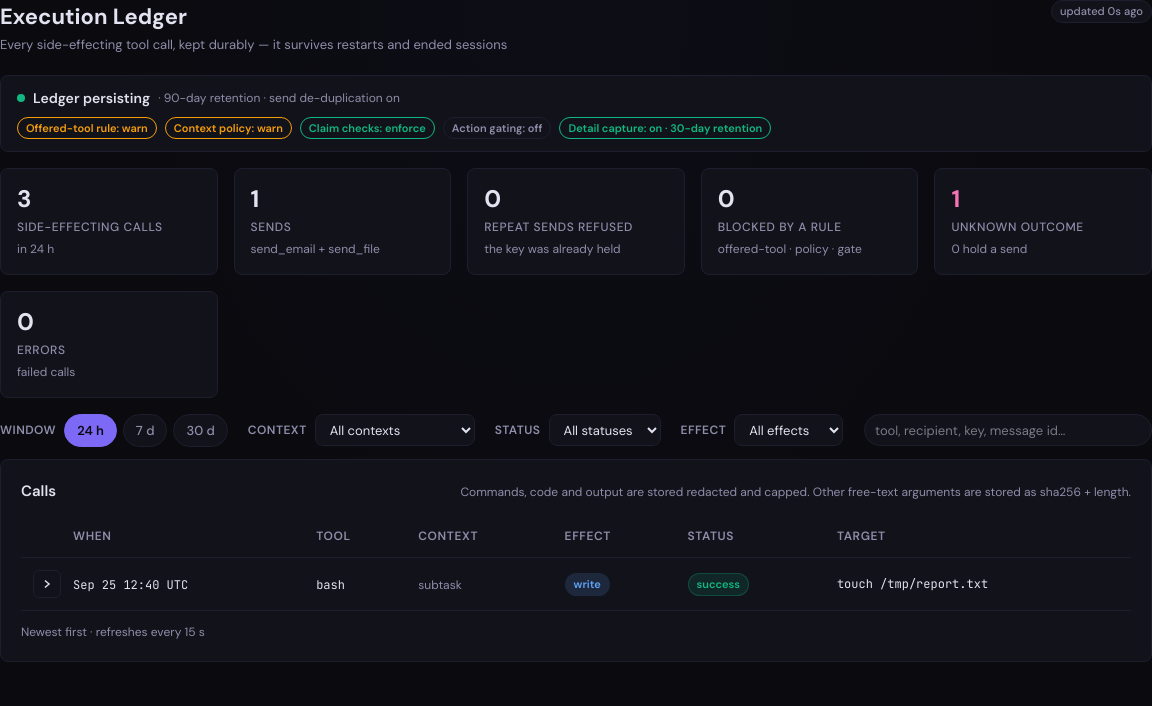
it: harness dashboard views › Ledger shows the stored command as the target and fetches command and output once when a row opens
Click the button named "Show details for bash": (47,584) x1=33 y1=570 x2=61 y2=598
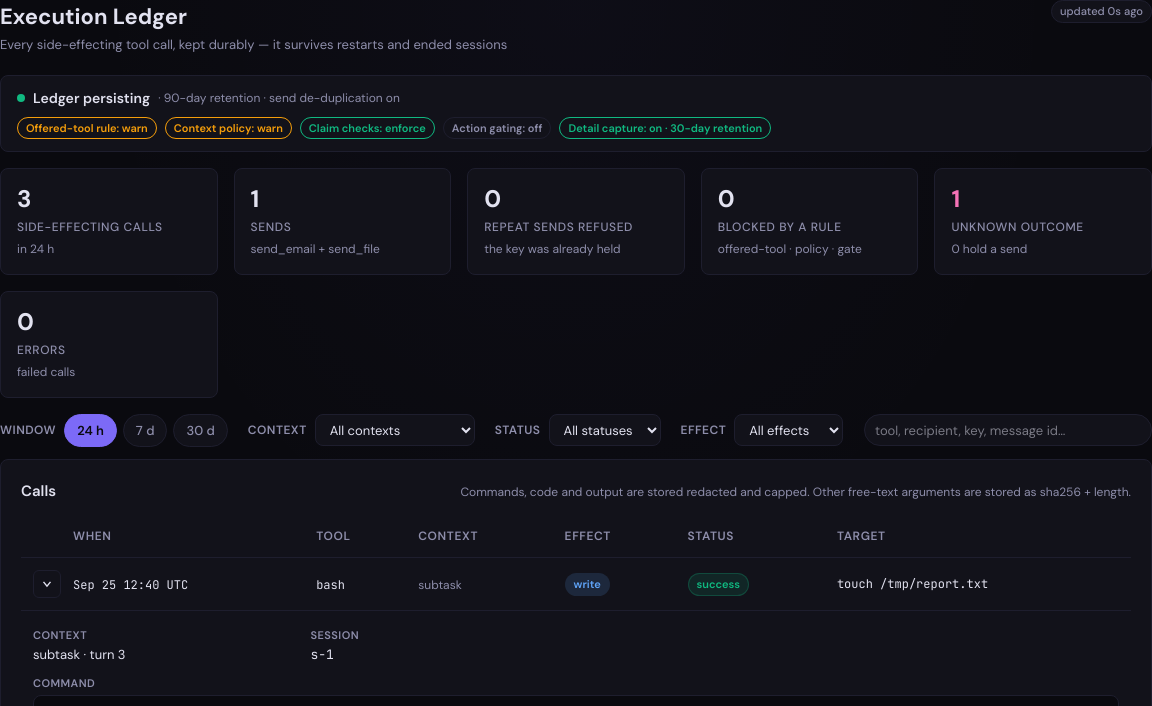
Expected: the text "Command" is shown, x1=460 y1=484 x2=1131 y2=500
Click the button named "Show details for bash": (47,584) x1=33 y1=570 x2=61 y2=598
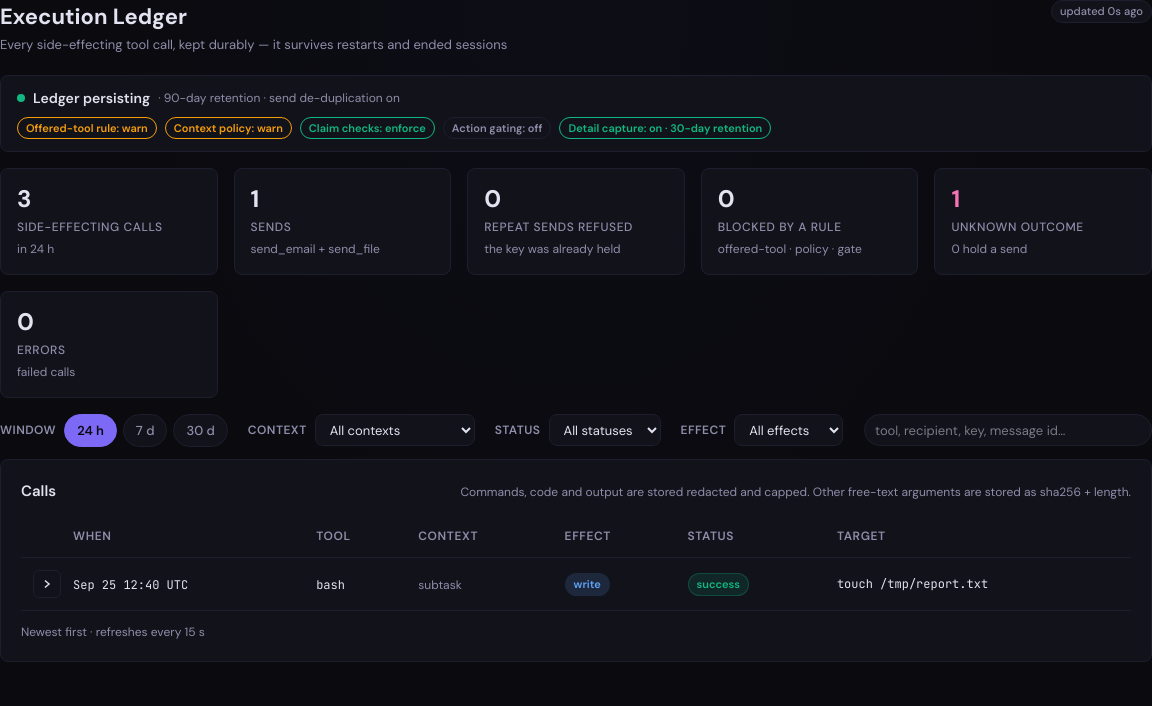
Click the button named "Show details for bash": (47,584) x1=33 y1=570 x2=61 y2=598
(page scrolled)
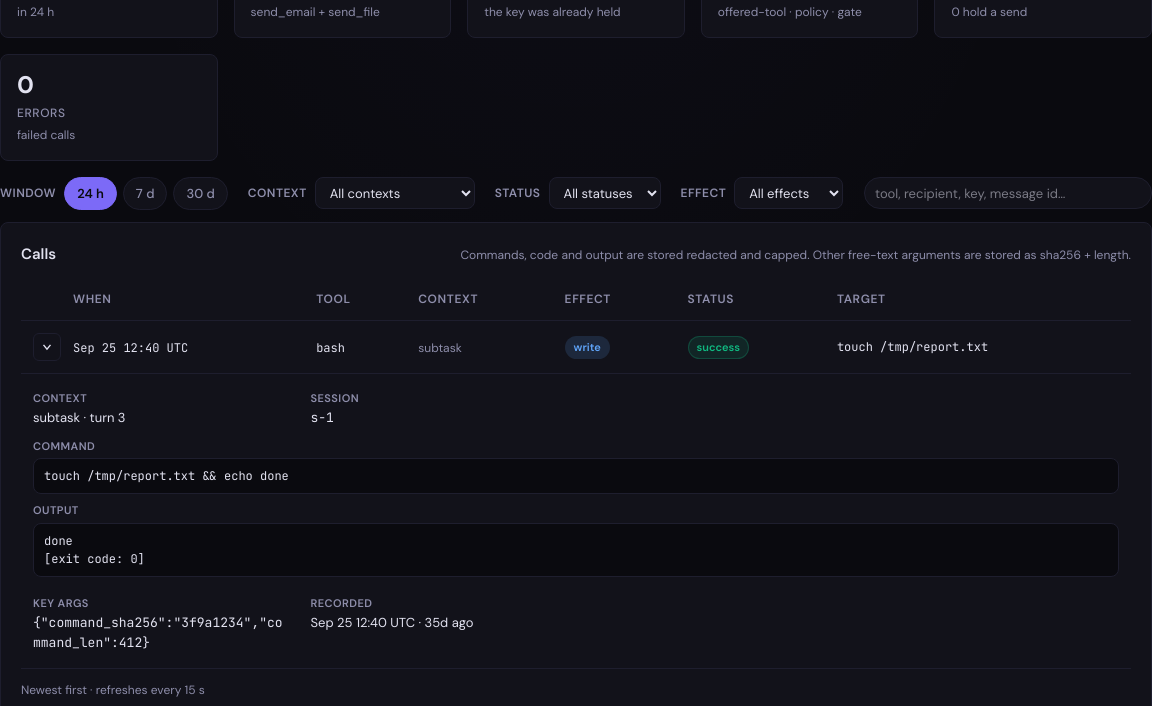
Now the text "touch /tmp/report.txt && echo done" is shown, box x1=33 y1=458 x2=1119 y2=494
